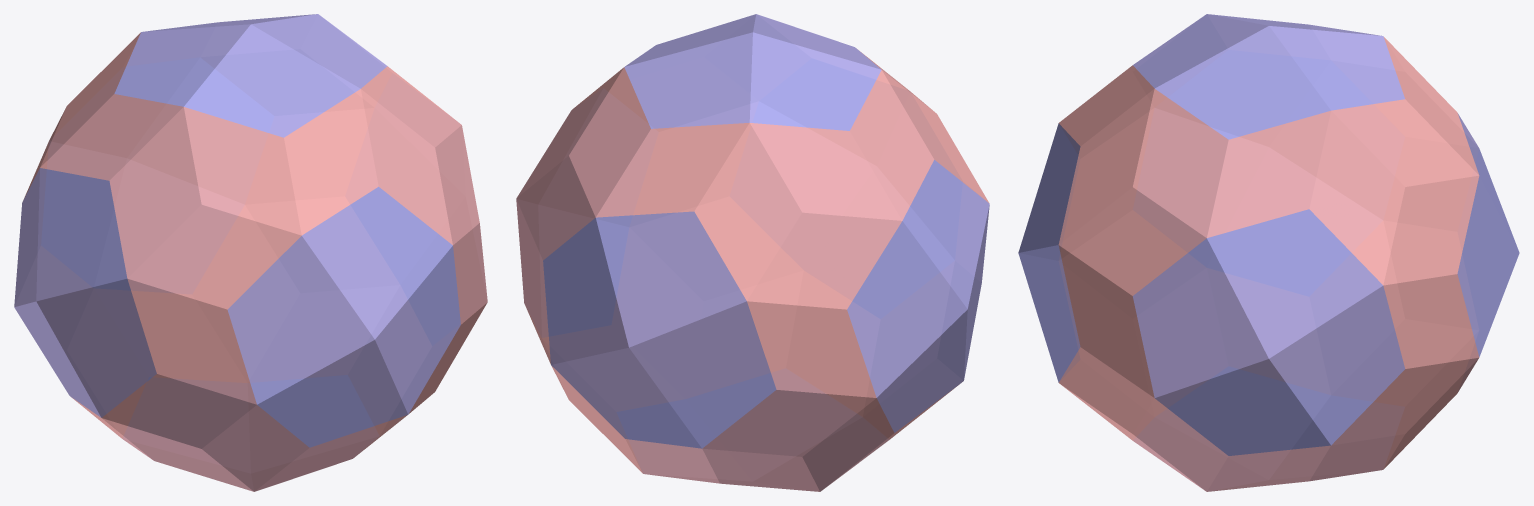
The model's file is JoinedSnubCube.obj.
The picture shows the model from 3 angles, left to right: view 1: azimuth 30°, elevation 25°; view 2: azimuth 150°, elevation 25°; view 3: azimuth 270°, elevation 25°; orthographic projection.
Bounding box in the file's own units: 2.72 × 2.72 × 2.72.
